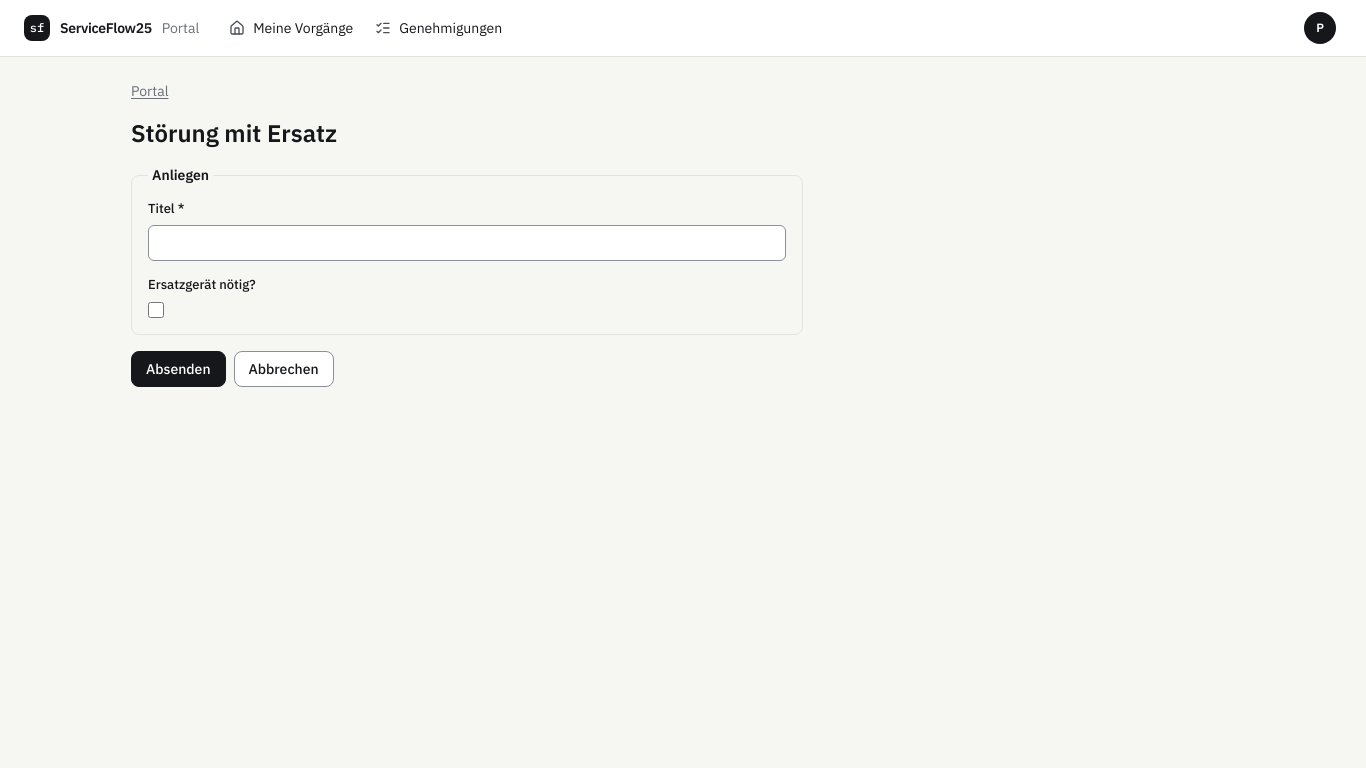
it: Portal › shows a question only when its condition holds, and does not send it hidden (UI12)
This screenshot has width=1366, height=768.
Expected: the field labelled "Welches Gerät?" is not shown
Click the checkbox labelled "Ersatzgerät nötig?" at (156, 310), box [148,302,164,318]
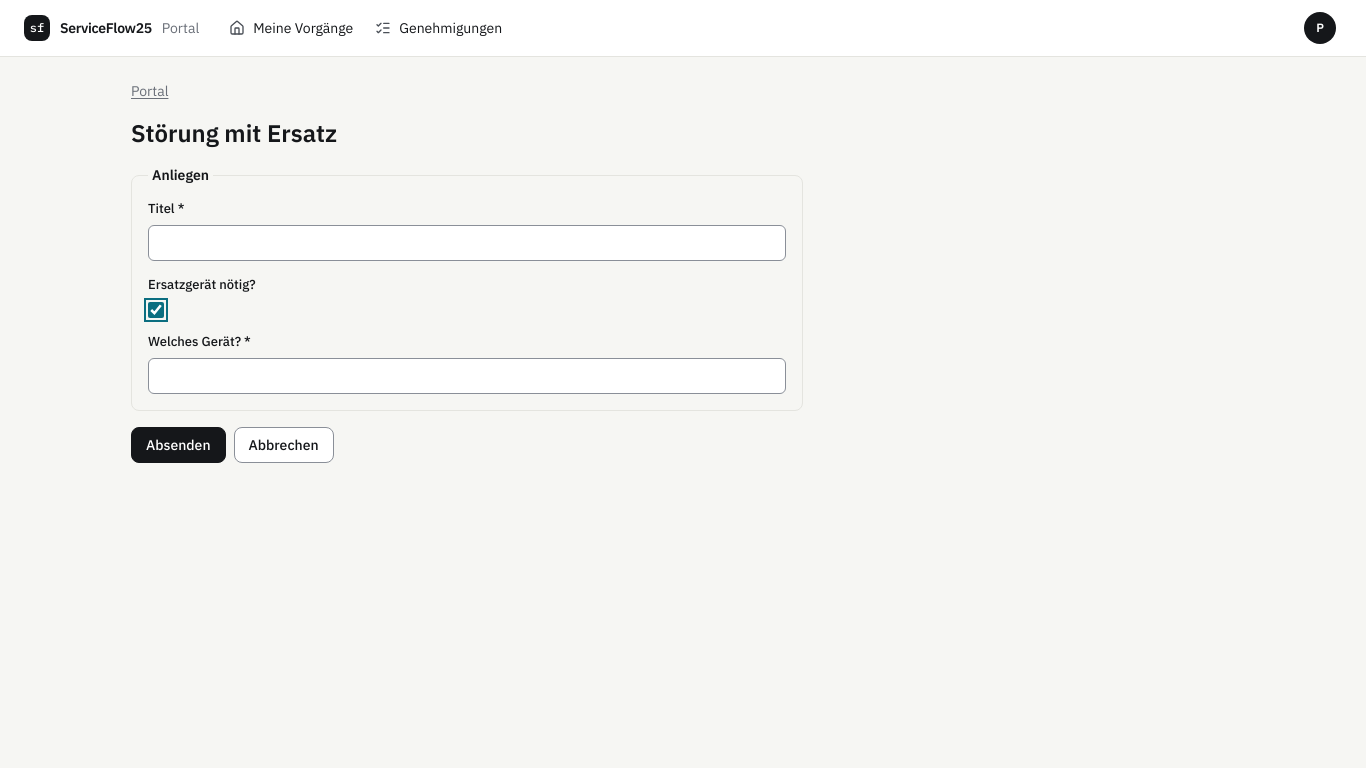
Type "Laptop kaputt" into the field labelled "Titel *" at (467, 243), box [148,225,786,261]
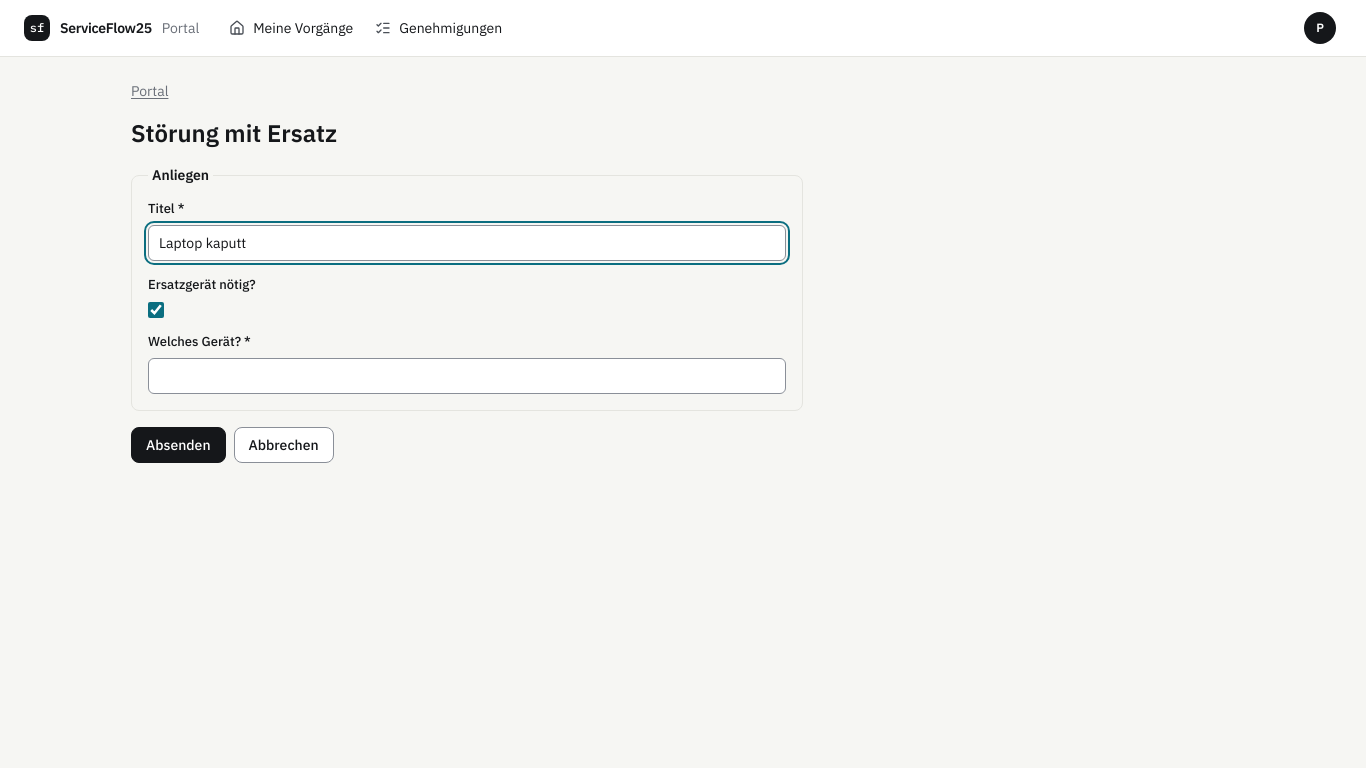
Click the button "Absenden" at (178, 445), box [131,427,226,463]
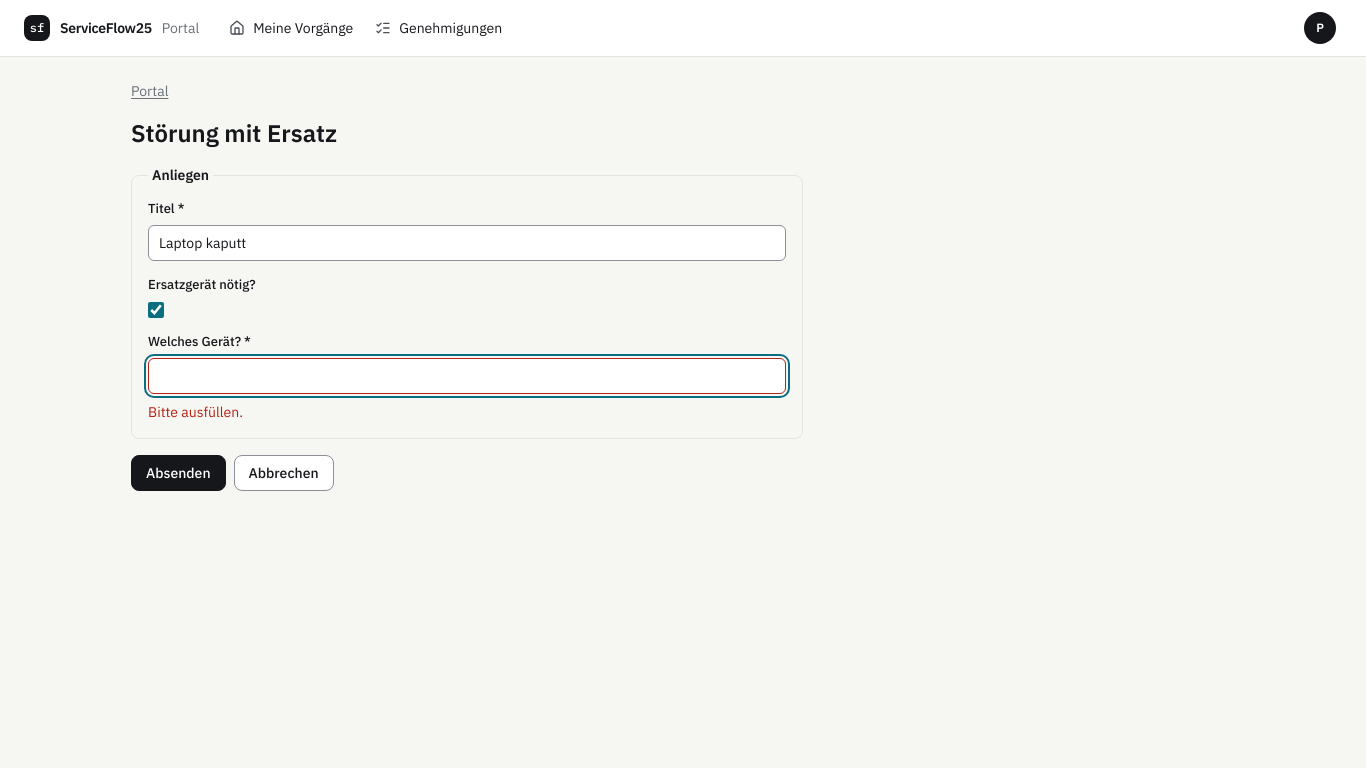
Expected: the text "Bitte ausfüllen." is shown, [148,403,243,421]
Type "Laptop" into the field labelled "Welches Gerät? *" at (467, 376), box [148,358,786,394]
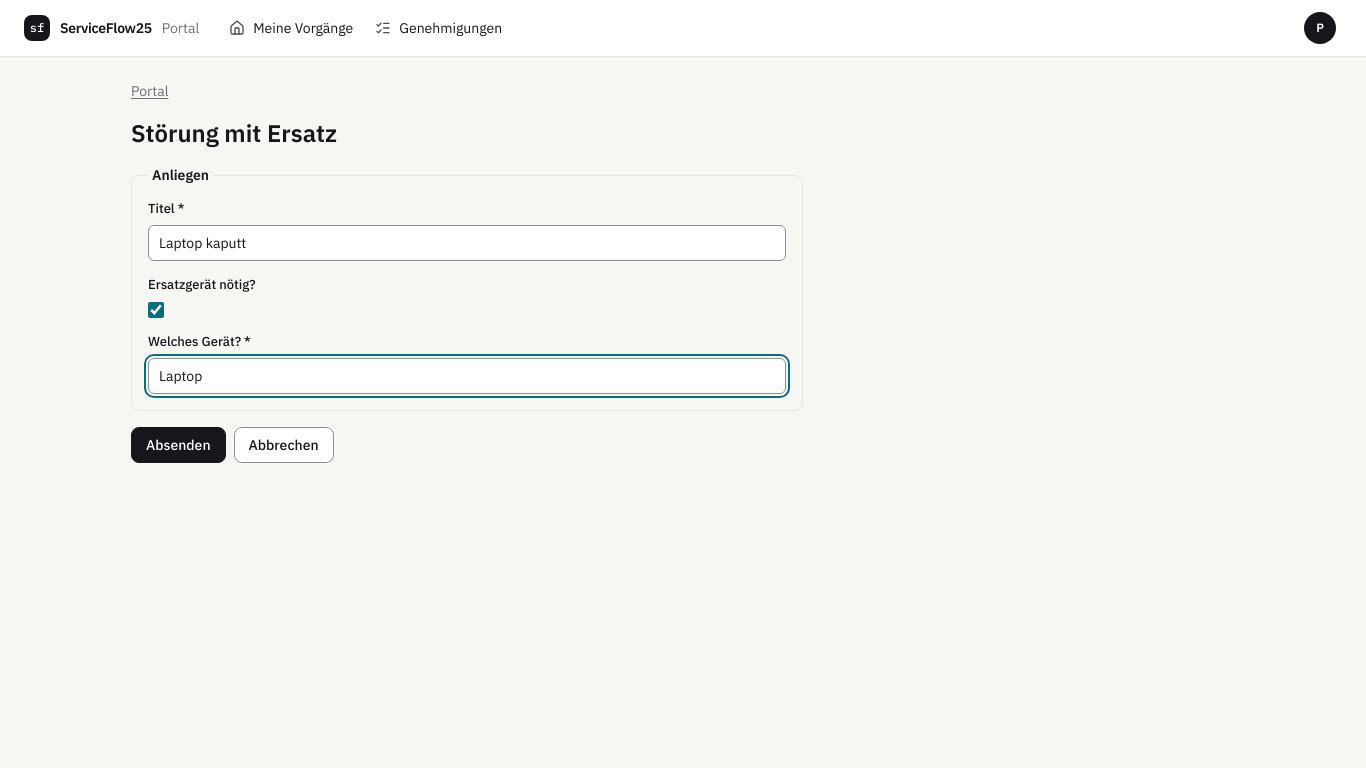
// No again: B goes, and with it its answer.
Click the checkbox labelled "Ersatzgerät nötig?" at (156, 310), box [148,302,164,318]
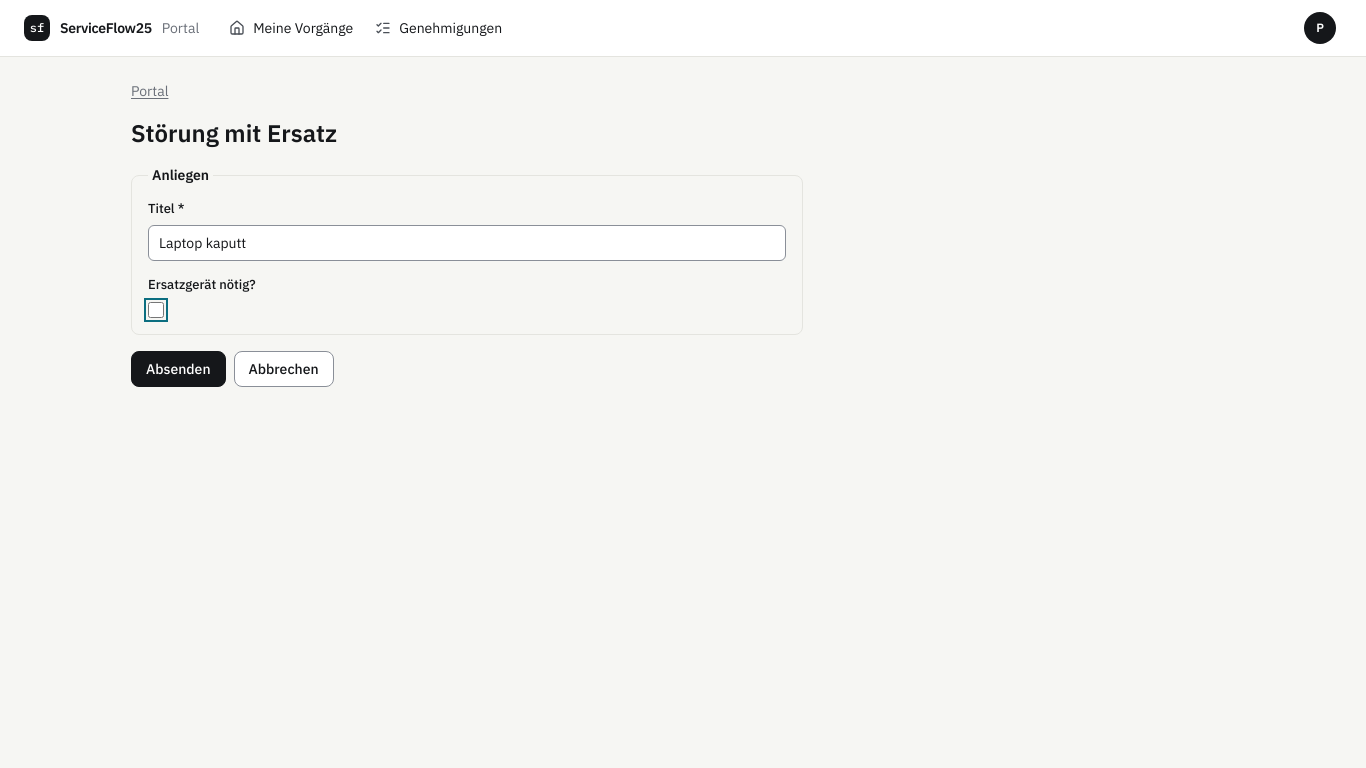
Expected: the label labelled "Welches Gerät?" is gone
Click the button "Absenden" at (178, 368), box [131,350,226,386]
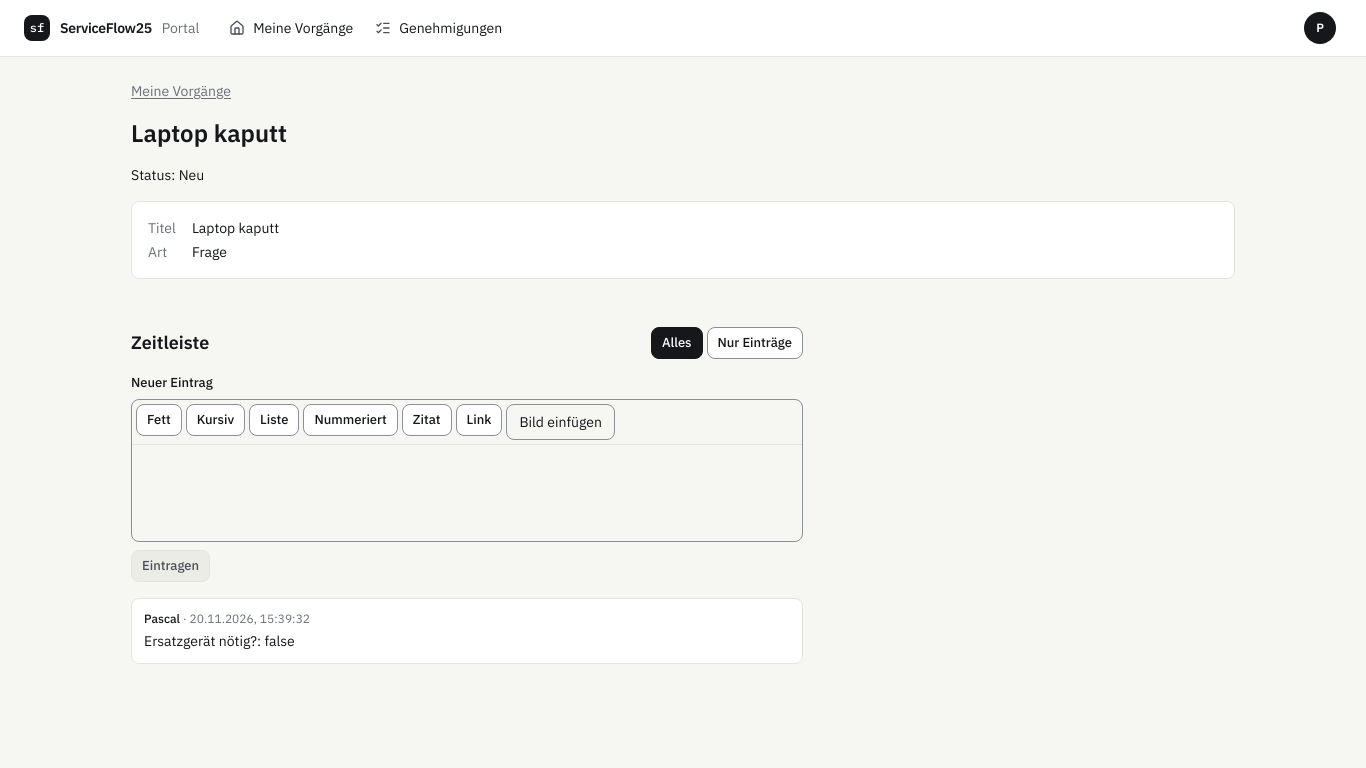
Expected: the heading "Laptop kaputt" is shown, [131,117,287,149]
